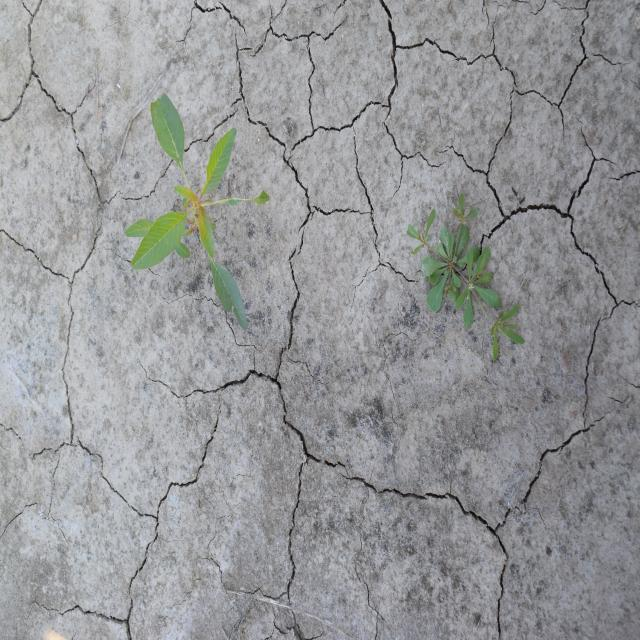Carpetweed: (405, 190, 527, 364)
Waterhemp: (124, 92, 270, 333)
